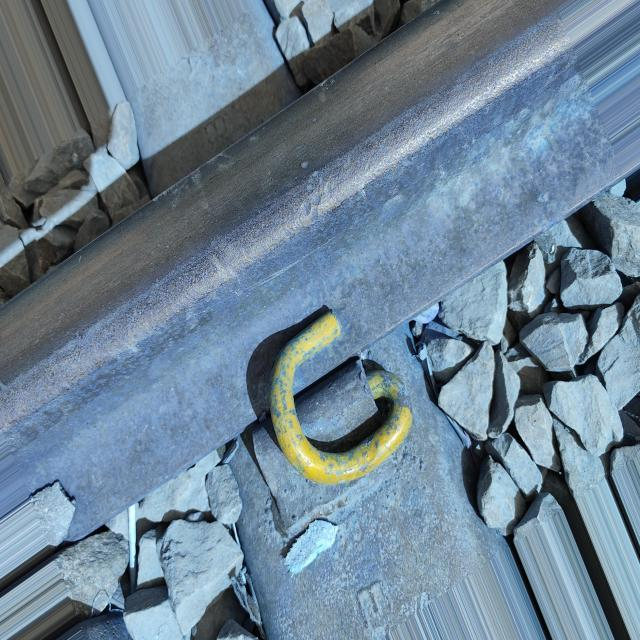Good Fasteners: (230, 312, 502, 638)
